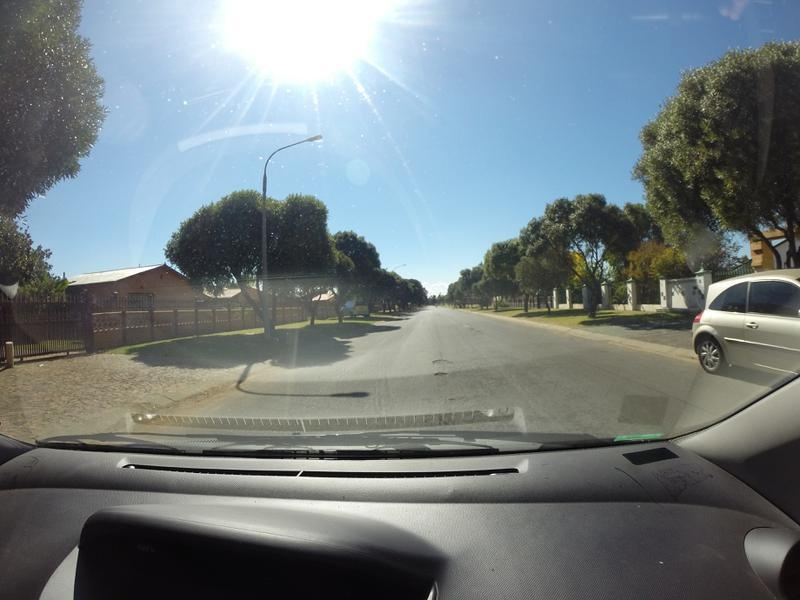pothole: (432, 355, 458, 362), (434, 367, 447, 380)
